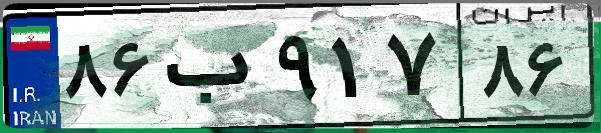1: (330, 28, 385, 110)
6: (525, 38, 570, 115), (110, 28, 158, 98)
7: (385, 28, 445, 110)
8: (57, 26, 110, 100), (475, 38, 525, 113)
9: (270, 28, 330, 110)
ب: (158, 20, 270, 120)
